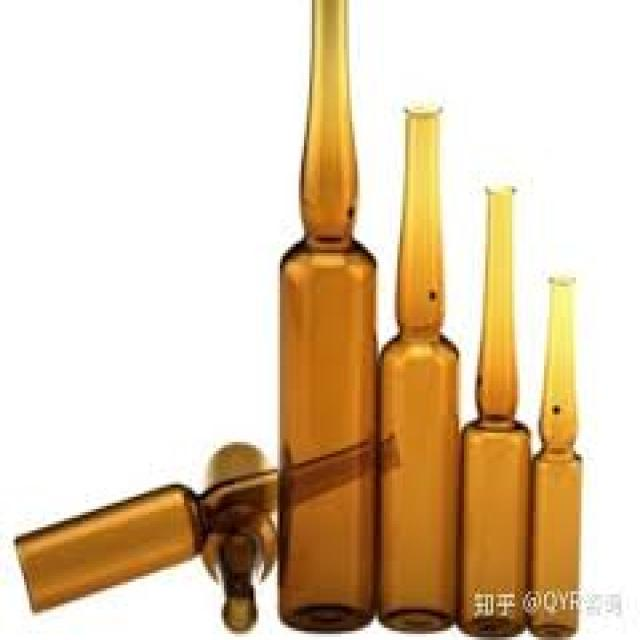glass: (11, 430, 395, 610), (280, 0, 376, 631), (376, 107, 456, 631), (462, 183, 534, 634), (526, 274, 582, 637), (200, 442, 275, 631)
